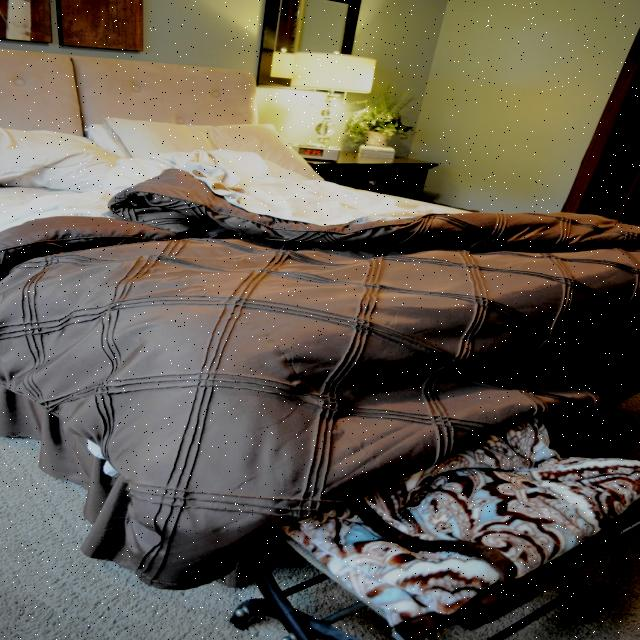bed: (21, 50, 619, 458)
